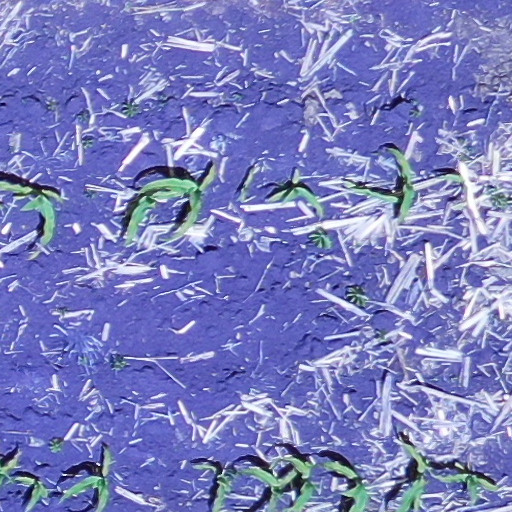planta: (138, 165, 216, 239), (123, 188, 185, 244), (392, 148, 417, 223), (439, 472, 500, 502), (269, 187, 324, 213), (345, 179, 401, 204), (14, 476, 51, 507)
